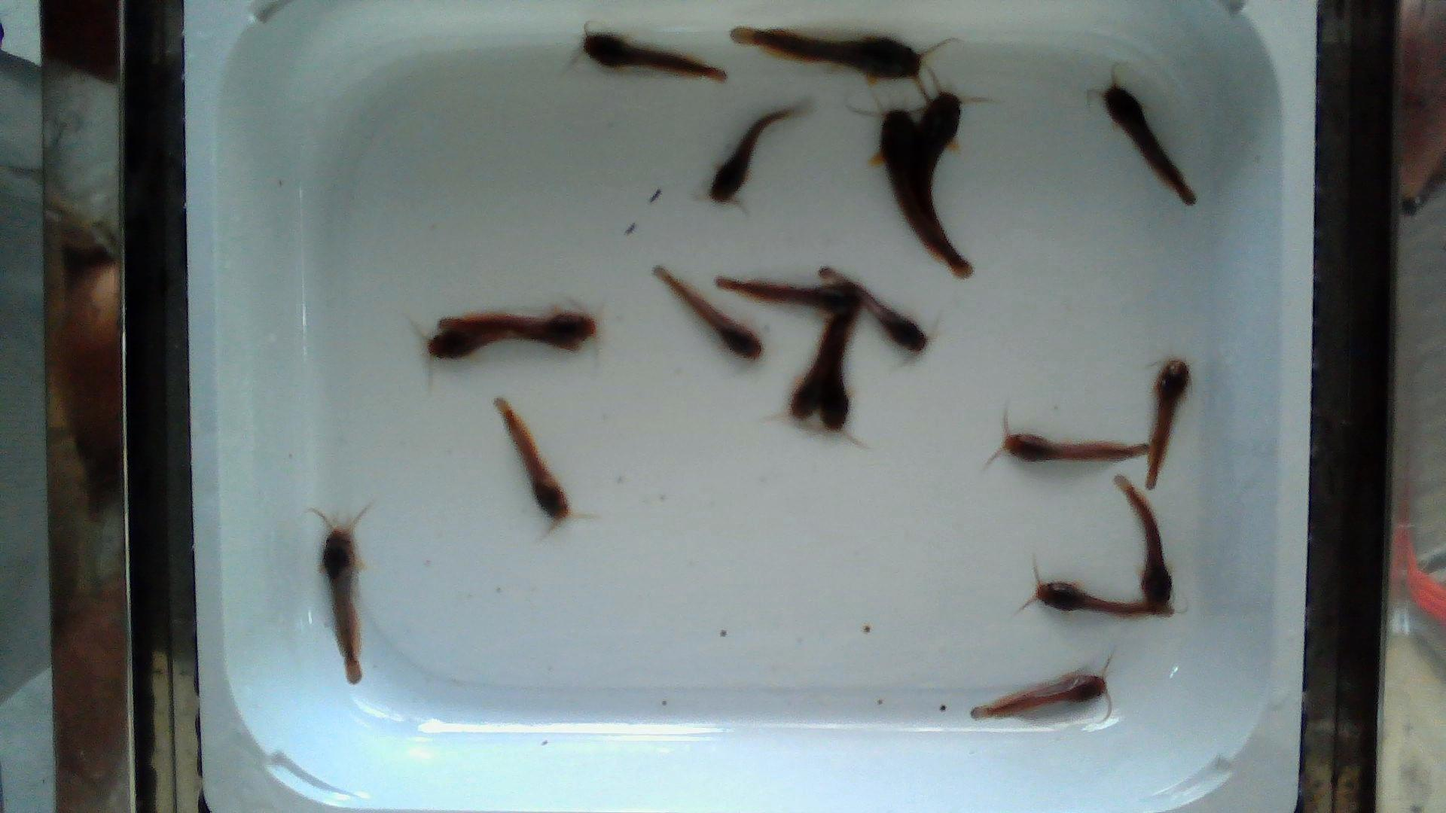lele: (871, 109, 974, 278), (1103, 82, 1196, 205), (654, 266, 762, 360), (731, 27, 921, 78), (495, 398, 570, 525), (818, 269, 927, 353), (709, 106, 800, 202), (1113, 478, 1174, 605), (912, 92, 960, 252), (318, 512, 362, 684), (584, 33, 725, 81), (717, 275, 861, 319), (972, 672, 1106, 719), (788, 318, 849, 416), (1146, 360, 1189, 489), (427, 327, 582, 361), (1035, 583, 1172, 619), (439, 312, 594, 340), (1003, 434, 1148, 461), (820, 321, 853, 432)
